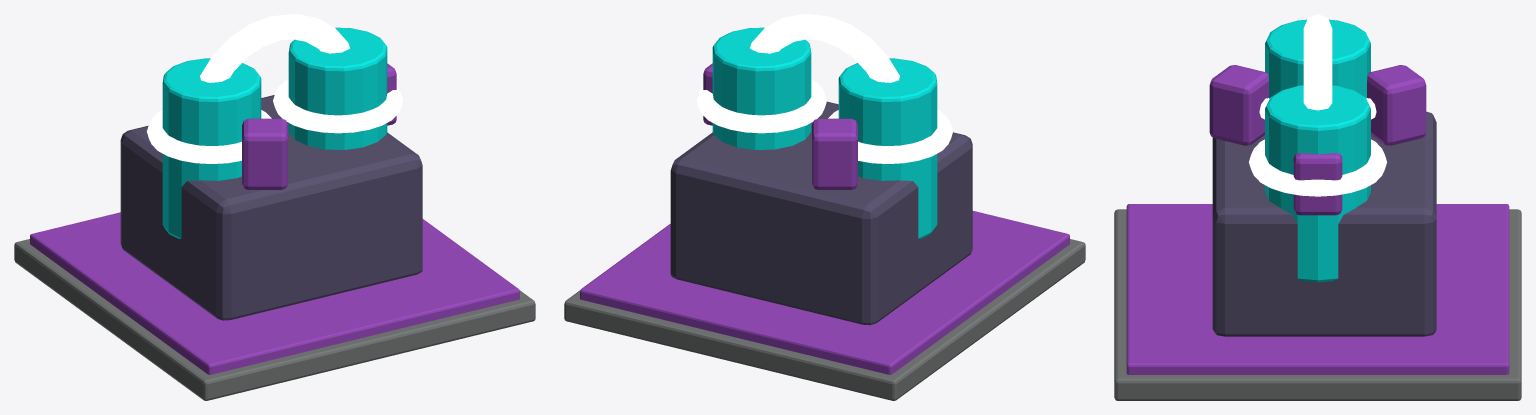
File: SM_Chronolegion_CH_PowerPlant.fbx
3 renders of one model, left to right at view 1: azimuth 30°, elevation 25°; view 2: azimuth 150°, elevation 25°; view 3: azimuth 270°, elevation 25°, orthographic. The views are drawn at different scales.
Parts seen in each view (by area): view 1: SM_Chronolegion_CH_PowerPlant_MainMass, SM_Chronolegion_CH_PowerPlant_FoundationTrim, SM_Chronolegion_CH_PowerPlant, SM_Chronolegion_CH_PowerPlant_Reactor_-1, SM_Chronolegion_CH_PowerPlant_Reactor_+1, SM_Chronolegion_CH_PowerPlant_ChronoRing, SM_Chronolegion_CH_PowerPlant_FloatingNode_2, SM_Chronolegion_CH_PowerPlant_ReactorRing_+1, SM_Chronolegion_CH_PowerPlant_ReactorRing_-1; view 2: SM_Chronolegion_CH_PowerPlant_MainMass, SM_Chronolegion_CH_PowerPlant_FoundationTrim, SM_Chronolegion_CH_PowerPlant, SM_Chronolegion_CH_PowerPlant_Reactor_-1, SM_Chronolegion_CH_PowerPlant_Reactor_+1, SM_Chronolegion_CH_PowerPlant_ChronoRing, SM_Chronolegion_CH_PowerPlant_FloatingNode_1, SM_Chronolegion_CH_PowerPlant_ReactorRing_+1, SM_Chronolegion_CH_PowerPlant_ReactorRing_-1; view 3: SM_Chronolegion_CH_PowerPlant_FoundationTrim, SM_Chronolegion_CH_PowerPlant_MainMass, SM_Chronolegion_CH_PowerPlant, SM_Chronolegion_CH_PowerPlant_Reactor_+1, SM_Chronolegion_CH_PowerPlant_Reactor_-1, SM_Chronolegion_CH_PowerPlant_FloatingNode_1, SM_Chronolegion_CH_PowerPlant_FloatingNode_2, SM_Chronolegion_CH_PowerPlant_ReactorRing_+1, SM_Chronolegion_CH_PowerPlant_ChronoRing, SM_Chronolegion_CH_PowerPlant_FloatingNode_0.
Boxes of the visible parts, x1,y1,x2,y2 form: SM_Chronolegion_CH_PowerPlant_MainMass: (120,95,422,320); SM_Chronolegion_CH_PowerPlant_FoundationTrim: (30,212,519,374); SM_Chronolegion_CH_PowerPlant: (14,239,535,400); SM_Chronolegion_CH_PowerPlant_Reactor_-1: (162,58,261,238); SM_Chronolegion_CH_PowerPlant_Reactor_+1: (288,27,387,149); SM_Chronolegion_CH_PowerPlant_ChronoRing: (200,14,349,82); SM_Chronolegion_CH_PowerPlant_FloatingNode_2: (242,118,287,189); SM_Chronolegion_CH_PowerPlant_ReactorRing_+1: (273,79,402,133); SM_Chronolegion_CH_PowerPlant_ReactorRing_-1: (146,110,271,163); SM_Chronolegion_CH_PowerPlant_MainMass: (670,101,972,325); SM_Chronolegion_CH_PowerPlant_FoundationTrim: (580,211,1069,374); SM_Chronolegion_CH_PowerPlant: (564,239,1085,400); SM_Chronolegion_CH_PowerPlant_Reactor_-1: (838,58,937,238); SM_Chronolegion_CH_PowerPlant_Reactor_+1: (712,27,811,149); SM_Chronolegion_CH_PowerPlant_ChronoRing: (750,14,899,82); SM_Chronolegion_CH_PowerPlant_FloatingNode_1: (812,118,857,189); SM_Chronolegion_CH_PowerPlant_ReactorRing_+1: (697,79,826,133); SM_Chronolegion_CH_PowerPlant_ReactorRing_-1: (828,110,953,163); SM_Chronolegion_CH_PowerPlant_FoundationTrim: (1126,204,1509,374); SM_Chronolegion_CH_PowerPlant_MainMass: (1212,111,1436,336); SM_Chronolegion_CH_PowerPlant: (1114,209,1521,400); SM_Chronolegion_CH_PowerPlant_Reactor_+1: (1265,85,1370,282); SM_Chronolegion_CH_PowerPlant_Reactor_-1: (1265,19,1370,98); SM_Chronolegion_CH_PowerPlant_FloatingNode_1: (1367,65,1426,145); SM_Chronolegion_CH_PowerPlant_FloatingNode_2: (1209,65,1268,145); SM_Chronolegion_CH_PowerPlant_ReactorRing_+1: (1249,139,1386,196); SM_Chronolegion_CH_PowerPlant_ChronoRing: (1303,14,1332,110); SM_Chronolegion_CH_PowerPlant_FloatingNode_0: (1293,153,1342,215).
Size of what is drawn, in the model's own units: 600 by 600 by 476.
